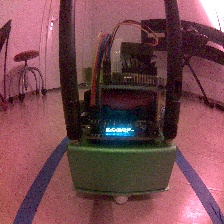rob: (66, 41, 177, 205)
